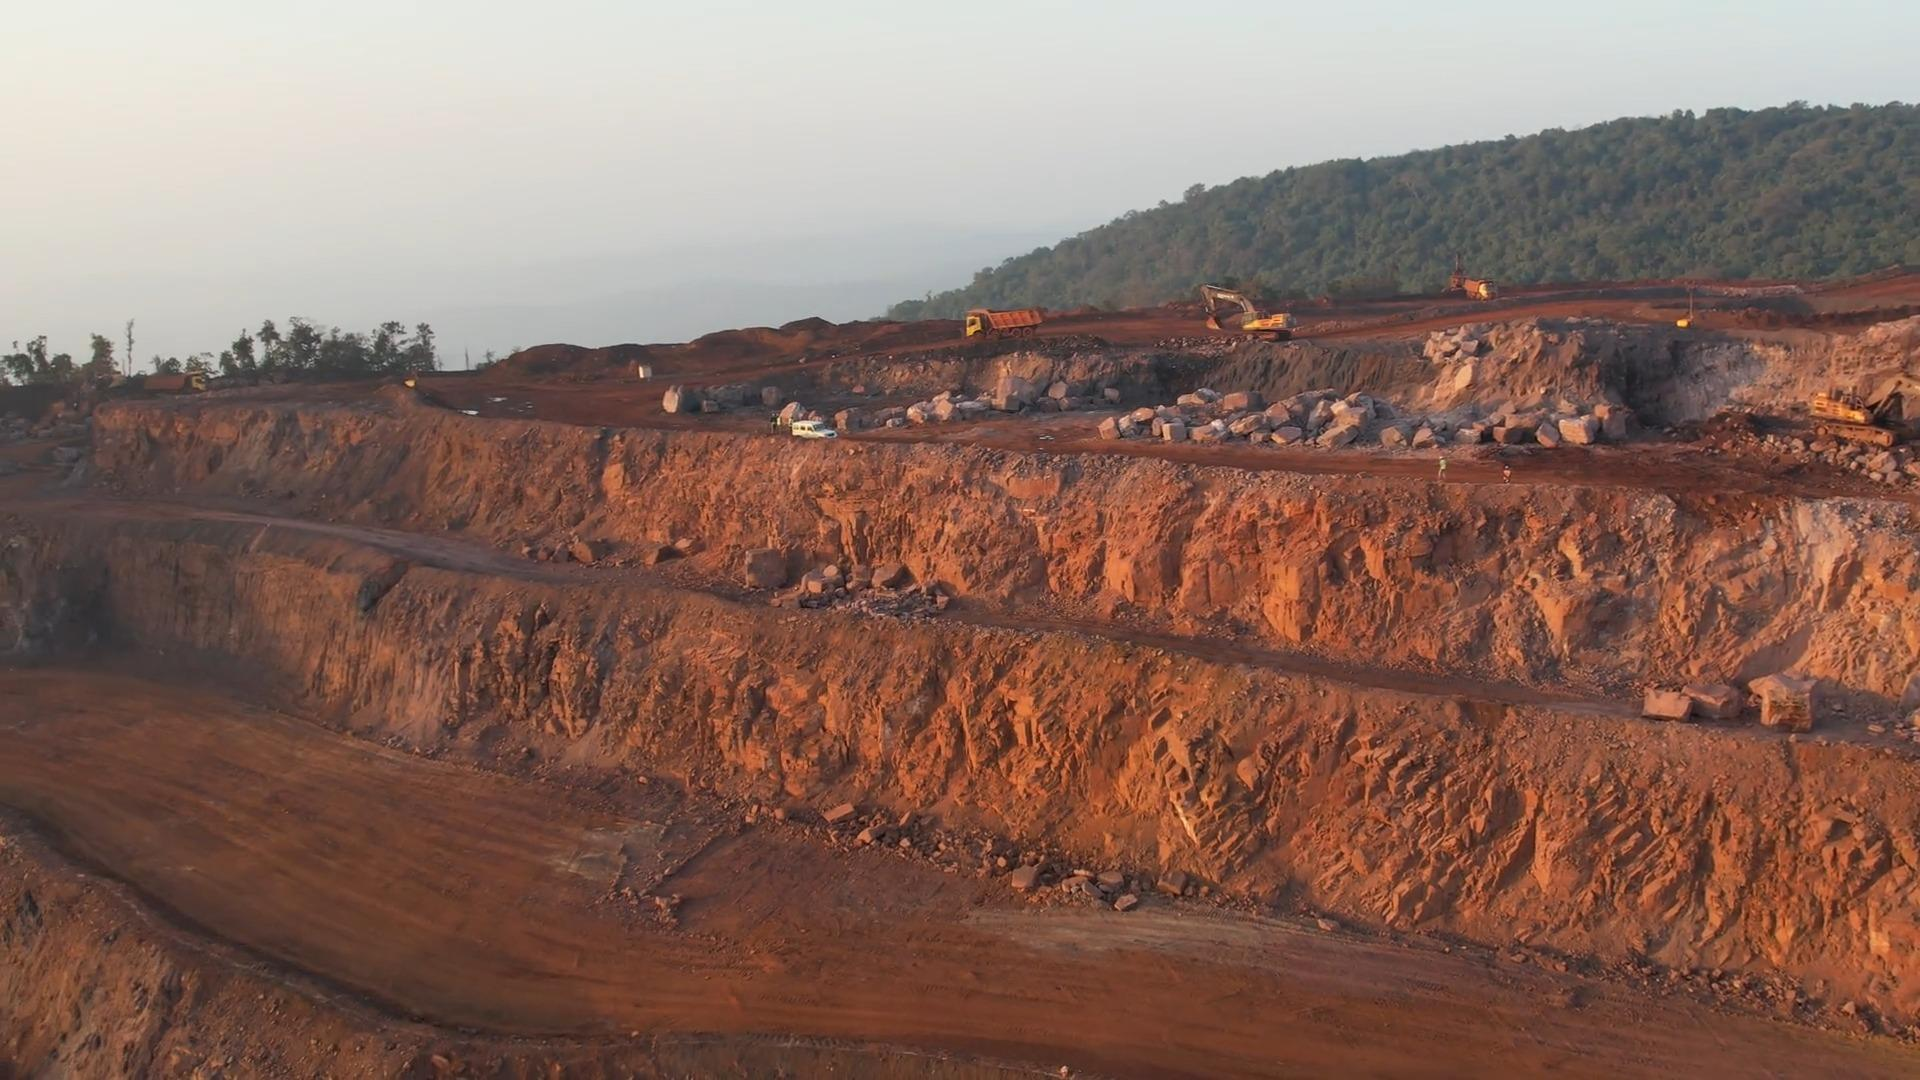excavator: (1811, 373, 1916, 444), (1203, 284, 1298, 342)
